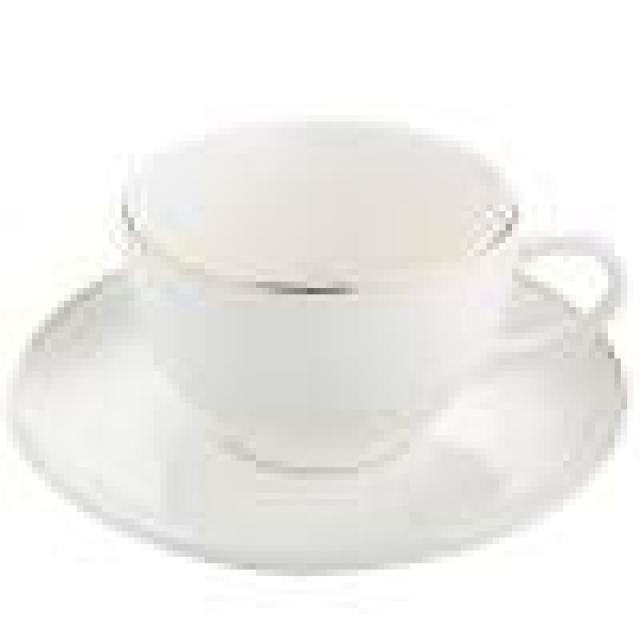taza: (118, 116, 623, 480)
